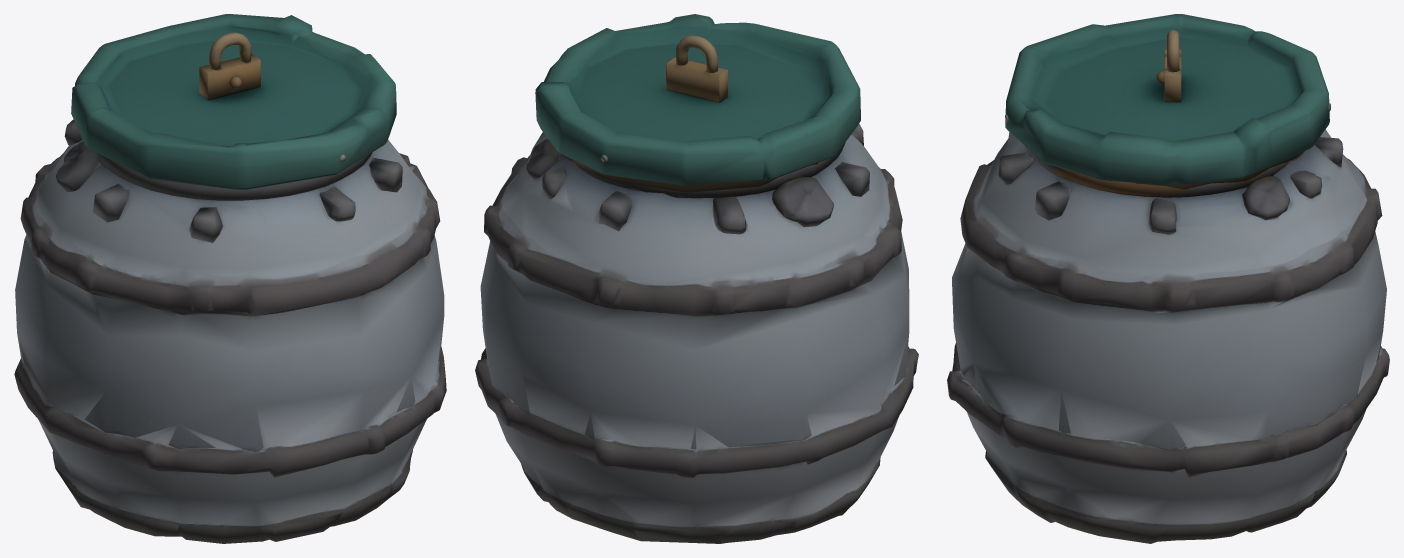
The picture shows the model from 3 angles, left to right: view 1: azimuth 30°, elevation 25°; view 2: azimuth 150°, elevation 25°; view 3: azimuth 270°, elevation 25°; orthographic projection.
Parts seen in each view (by area): view 1: tripo_node_fffdbbcf-4a7c-4a7c-9cc2-008da6061a43; view 2: tripo_node_fffdbbcf-4a7c-4a7c-9cc2-008da6061a43; view 3: tripo_node_fffdbbcf-4a7c-4a7c-9cc2-008da6061a43.
Boxes of the visible parts, bbox=[...] form: tripo_node_fffdbbcf-4a7c-4a7c-9cc2-008da6061a43: bbox=[14, 14, 446, 543]; tripo_node_fffdbbcf-4a7c-4a7c-9cc2-008da6061a43: bbox=[475, 14, 918, 543]; tripo_node_fffdbbcf-4a7c-4a7c-9cc2-008da6061a43: bbox=[947, 14, 1389, 543].
Bounding box in the file's own units: 0.8926 × 0.998 × 0.9082.
1 material, 1 textured.
